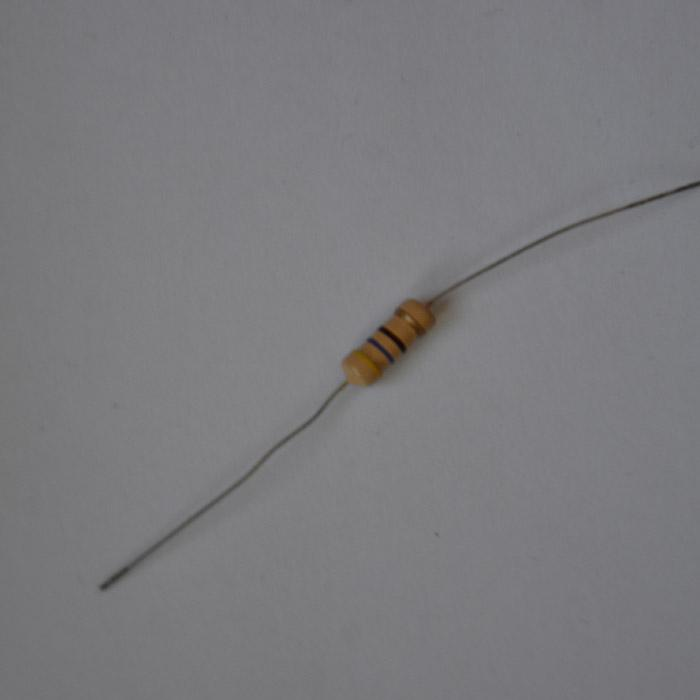resistor: (340, 297, 436, 388)
